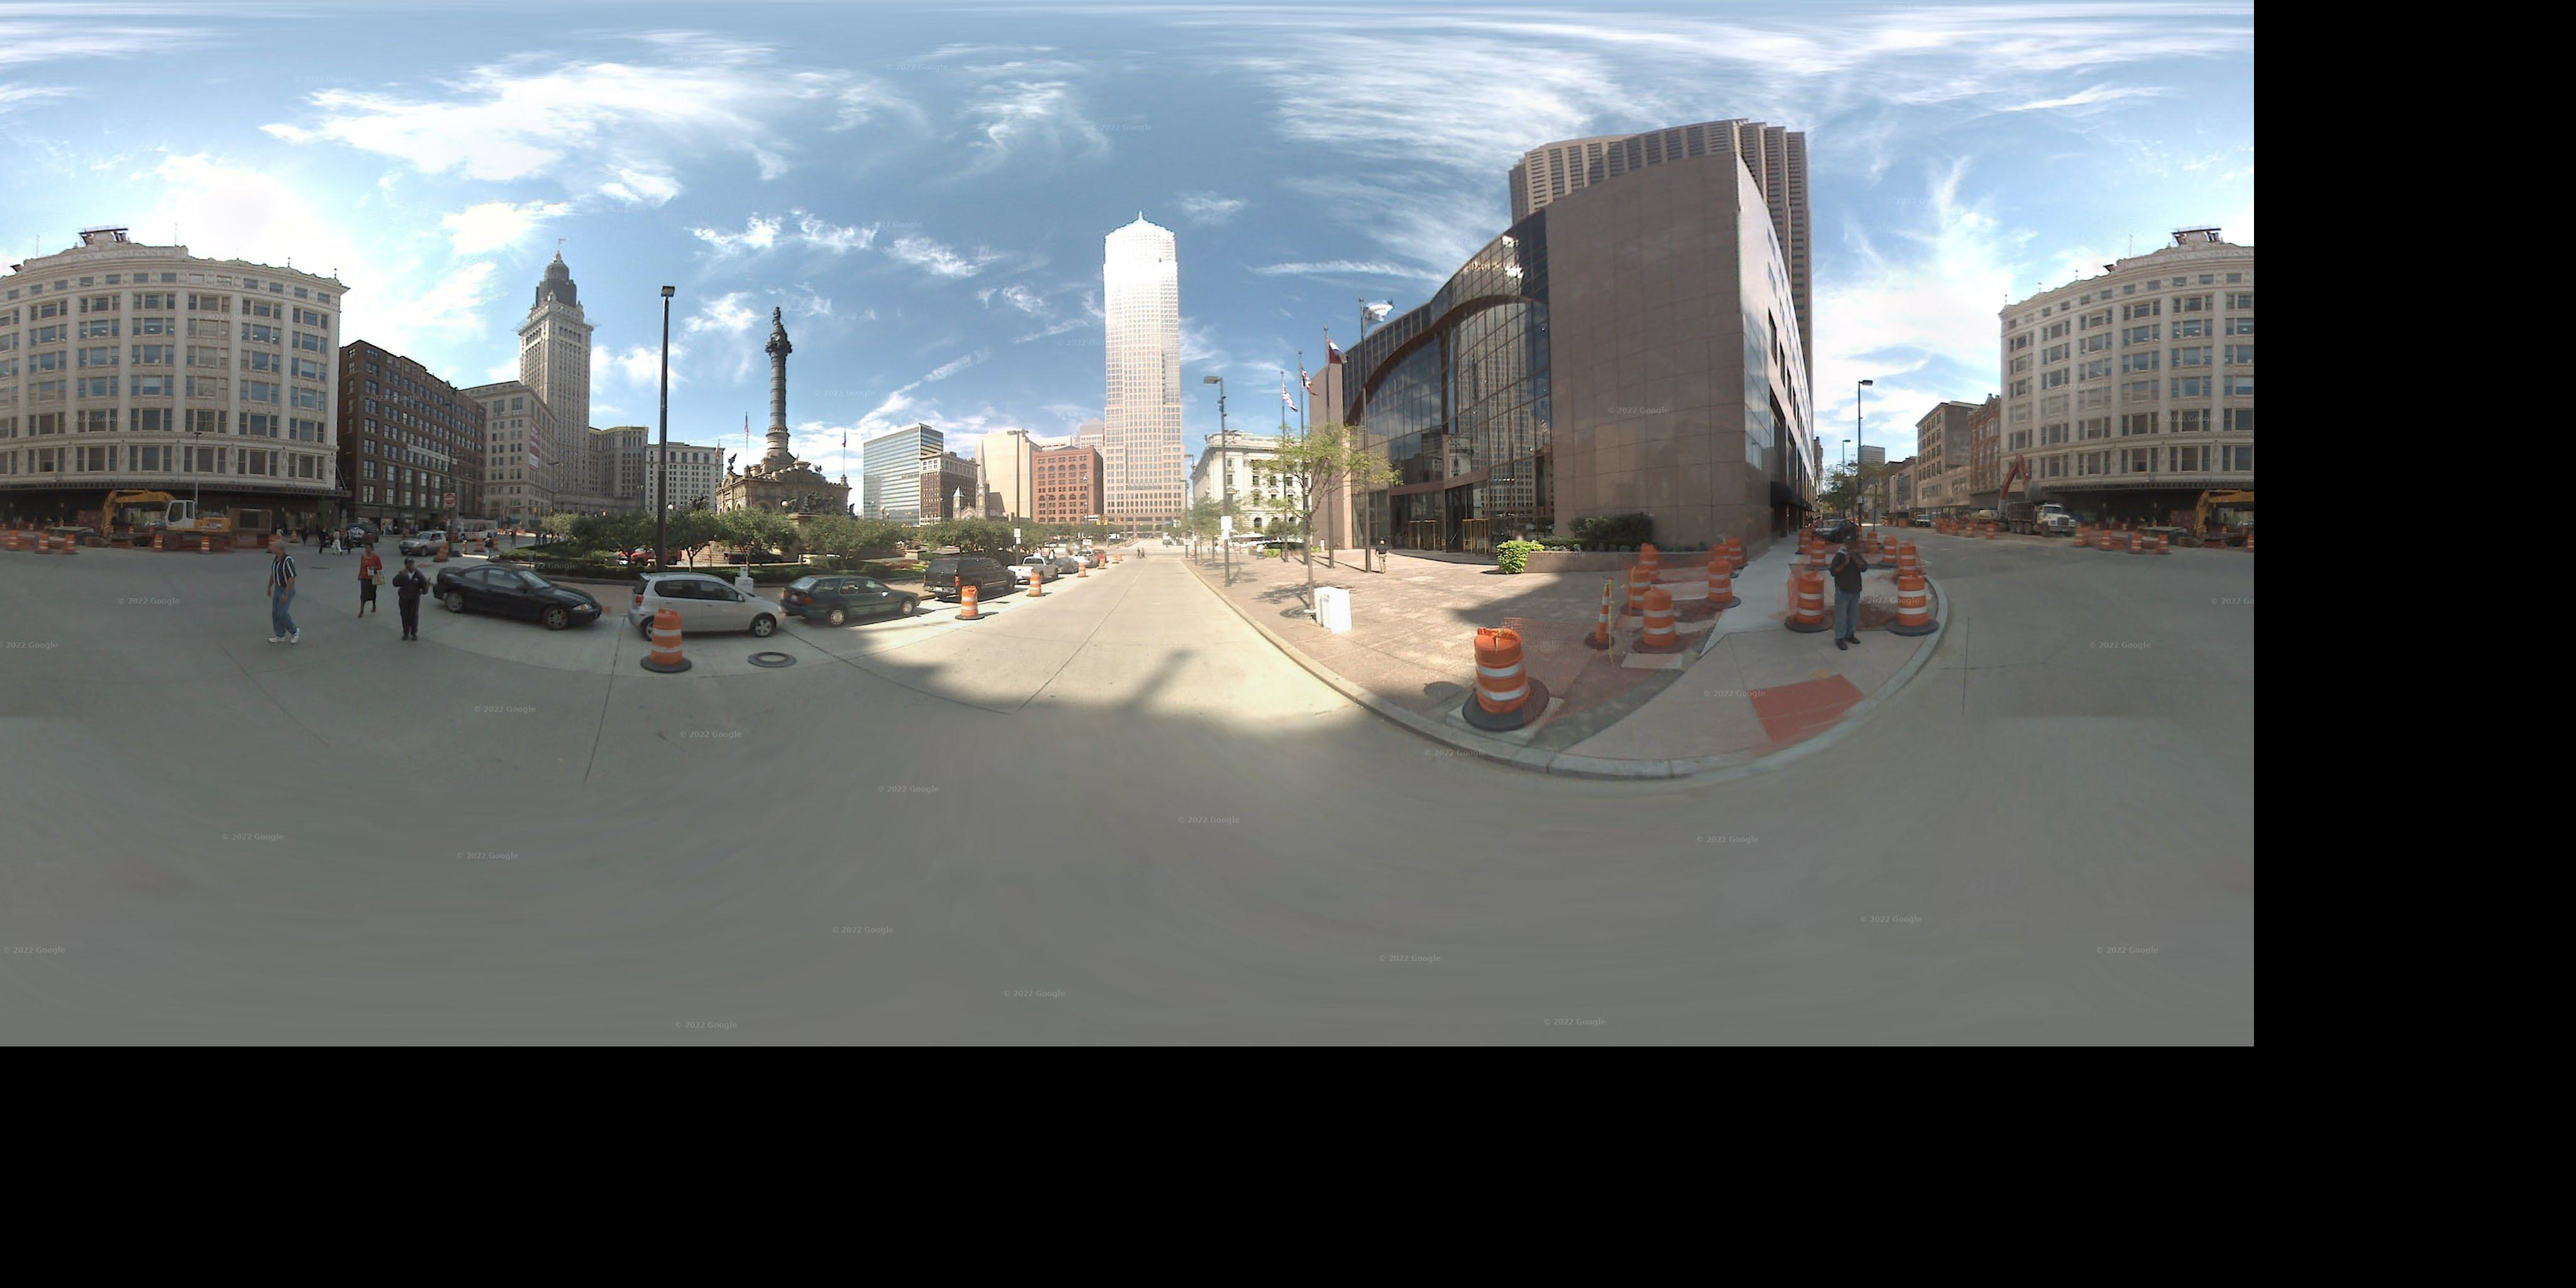Curb Ramp: (1704, 667, 1896, 747)
